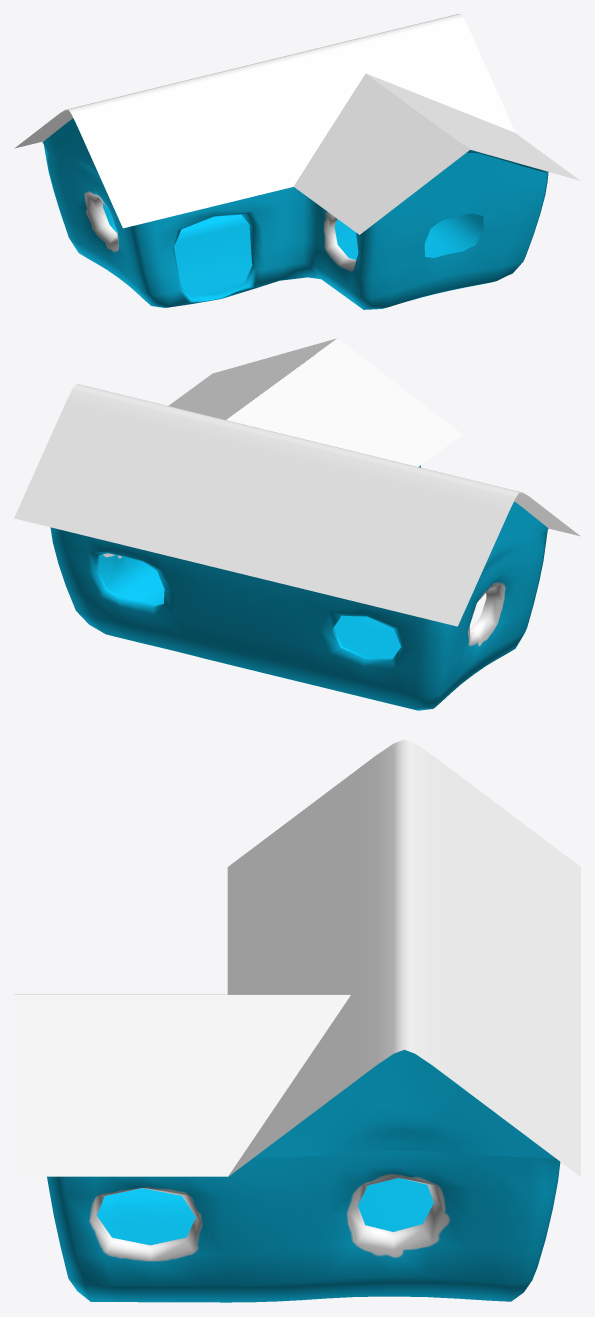
The model's file is House.fbx.
3 renders of one model, top to bottom at view 1: azimuth 30°, elevation 25°; view 2: azimuth 150°, elevation 25°; view 3: azimuth 270°, elevation 25°, orthographic. The views are drawn at different scales.
Parts seen in each view (by area): view 1: Roof, House; view 2: Roof, House; view 3: Roof, House.
Boxes of the visible parts, left/top/right/bottom form: Roof: left=14, top=14, right=580, bottom=234; House: left=42, top=118, right=548, bottom=309; Roof: left=14, top=338, right=580, bottom=626; House: left=50, top=358, right=548, bottom=710; Roof: left=14, top=739, right=580, bottom=1176; House: left=47, top=1049, right=560, bottom=1302.
Bounding box in the file's own units: 3372 × 1507 × 2605.
2 materials, 2 textured.
